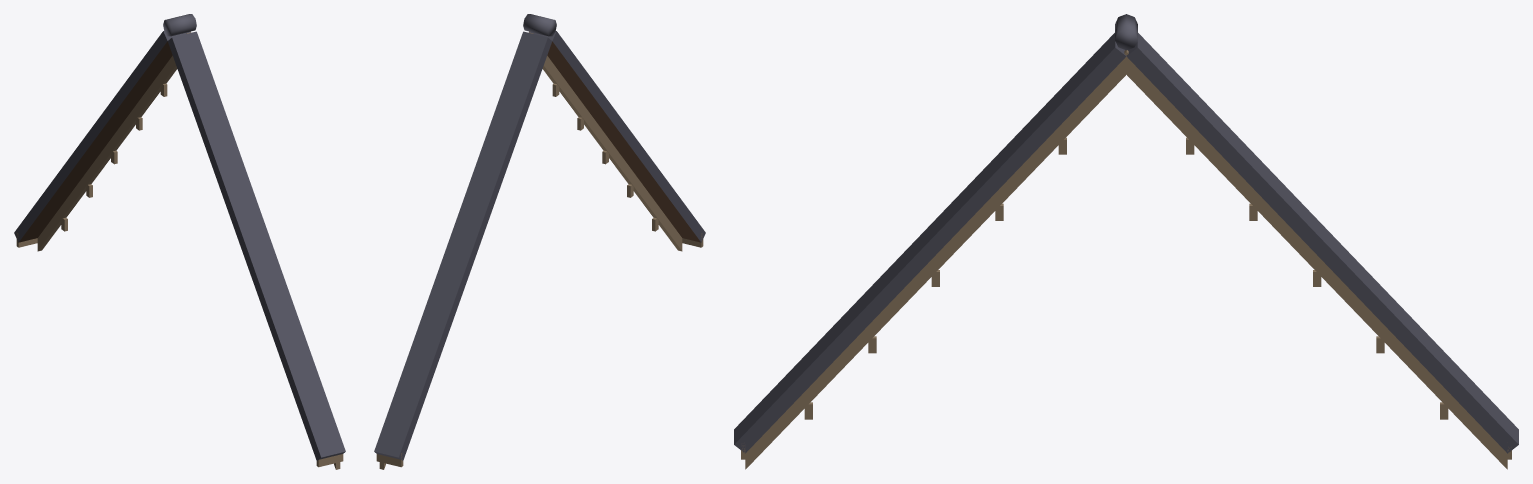
Rendered from kit_clapboard_slate_w4_end.glb.
The picture shows the model from 3 angles, left to right: view 1: azimuth 30°, elevation 25°; view 2: azimuth 150°, elevation 25°; view 3: azimuth 270°, elevation 25°; orthographic projection. The views are drawn at different scales.
Visible parts, largest first — view 1: kit_clapboard_slate_w4_end; view 2: kit_clapboard_slate_w4_end; view 3: kit_clapboard_slate_w4_end.
Part boxes in pixels (left/top/right/bottom): kit_clapboard_slate_w4_end: left=14, top=14, right=345, bottom=469; kit_clapboard_slate_w4_end: left=374, top=14, right=705, bottom=469; kit_clapboard_slate_w4_end: left=734, top=14, right=1518, bottom=469.
Size of the model in its own units: 0.22 by 2.94 by 4.74.
